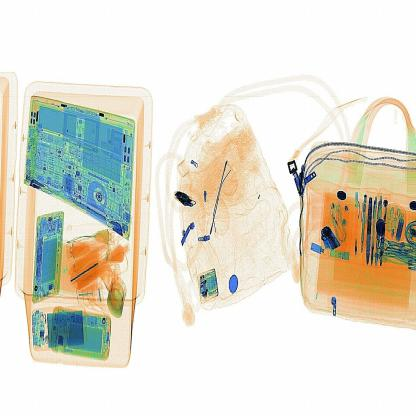scissors: (175, 192, 198, 214)
